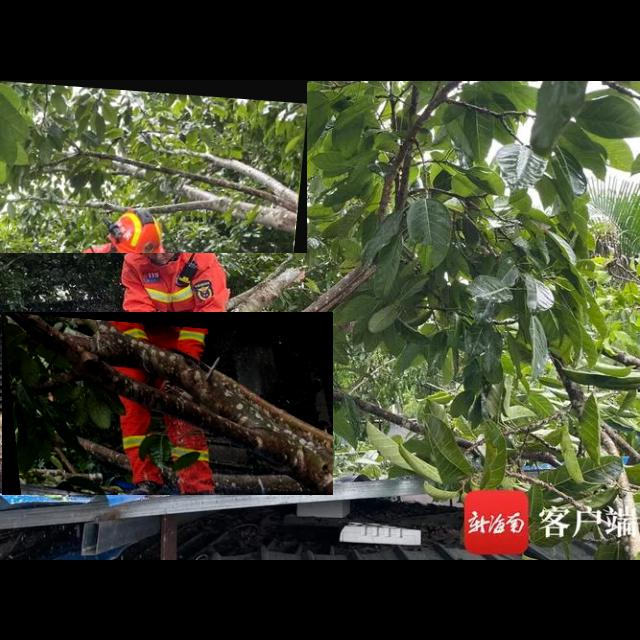Fallen Tree: (2, 312, 334, 496), (0, 80, 308, 254)
